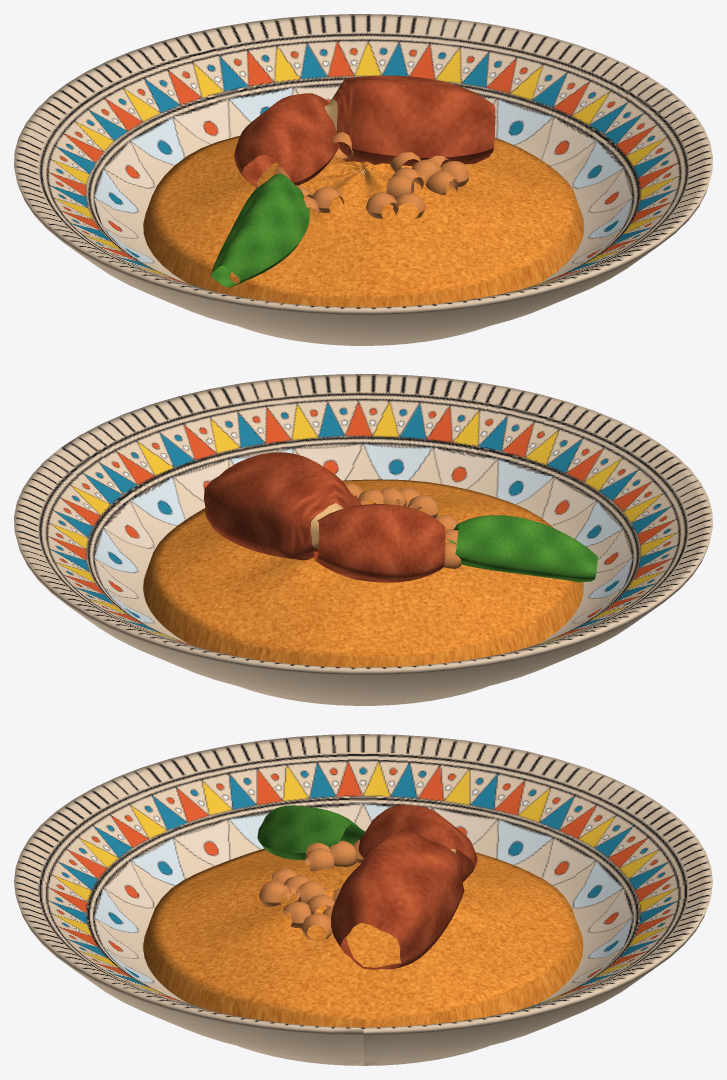
Rendered from Couscous_Plat_050pct.obj.
3 views of the same model, one above another, from view 1: azimuth 30°, elevation 25°; view 2: azimuth 150°, elevation 25°; view 3: azimuth 270°, elevation 25° (orthographic).
Parts seen in each view (by area): view 1: 00_Plate_Tebsi_Ceramic, 01_Couscous_Semolina_Mound, 02_Meat_Lamb_Shank_Main, 03_Meat_Braised_Left, 06_Veg_Green_Pepper_Felfel, 05_Chickpeas_Cluster; view 2: 00_Plate_Tebsi_Ceramic, 01_Couscous_Semolina_Mound, 02_Meat_Lamb_Shank_Main, 03_Meat_Braised_Left, 06_Veg_Green_Pepper_Felfel, 05_Chickpeas_Cluster; view 3: 00_Plate_Tebsi_Ceramic, 01_Couscous_Semolina_Mound, 02_Meat_Lamb_Shank_Main, 05_Chickpeas_Cluster, 06_Veg_Green_Pepper_Felfel, 03_Meat_Braised_Left.
Part boxes in pixels (bbox=[...]): 00_Plate_Tebsi_Ceramic: bbox=[14, 14, 712, 345]; 01_Couscous_Semolina_Mound: bbox=[143, 136, 583, 307]; 02_Meat_Lamb_Shank_Main: bbox=[324, 75, 495, 169]; 03_Meat_Braised_Left: bbox=[234, 93, 339, 187]; 06_Veg_Green_Pepper_Felfel: bbox=[211, 173, 309, 287]; 05_Chickpeas_Cluster: bbox=[274, 131, 468, 219]; 00_Plate_Tebsi_Ceramic: bbox=[14, 374, 712, 705]; 01_Couscous_Semolina_Mound: bbox=[143, 479, 583, 667]; 02_Meat_Lamb_Shank_Main: bbox=[203, 452, 361, 560]; 03_Meat_Braised_Left: bbox=[313, 504, 445, 582]; 06_Veg_Green_Pepper_Felfel: bbox=[449, 515, 597, 582]; 05_Chickpeas_Cluster: bbox=[345, 483, 460, 568]; 00_Plate_Tebsi_Ceramic: bbox=[14, 734, 712, 1065]; 01_Couscous_Semolina_Mound: bbox=[143, 848, 583, 1027]; 02_Meat_Lamb_Shank_Main: bbox=[331, 829, 464, 969]; 05_Chickpeas_Cluster: bbox=[259, 839, 363, 940]; 06_Veg_Green_Pepper_Felfel: bbox=[257, 805, 365, 860]; 03_Meat_Braised_Left: bbox=[358, 804, 477, 882].
Bounding box in the file's own units: 0.32 × 0.0817 × 0.32.
1 material, 1 textured.
